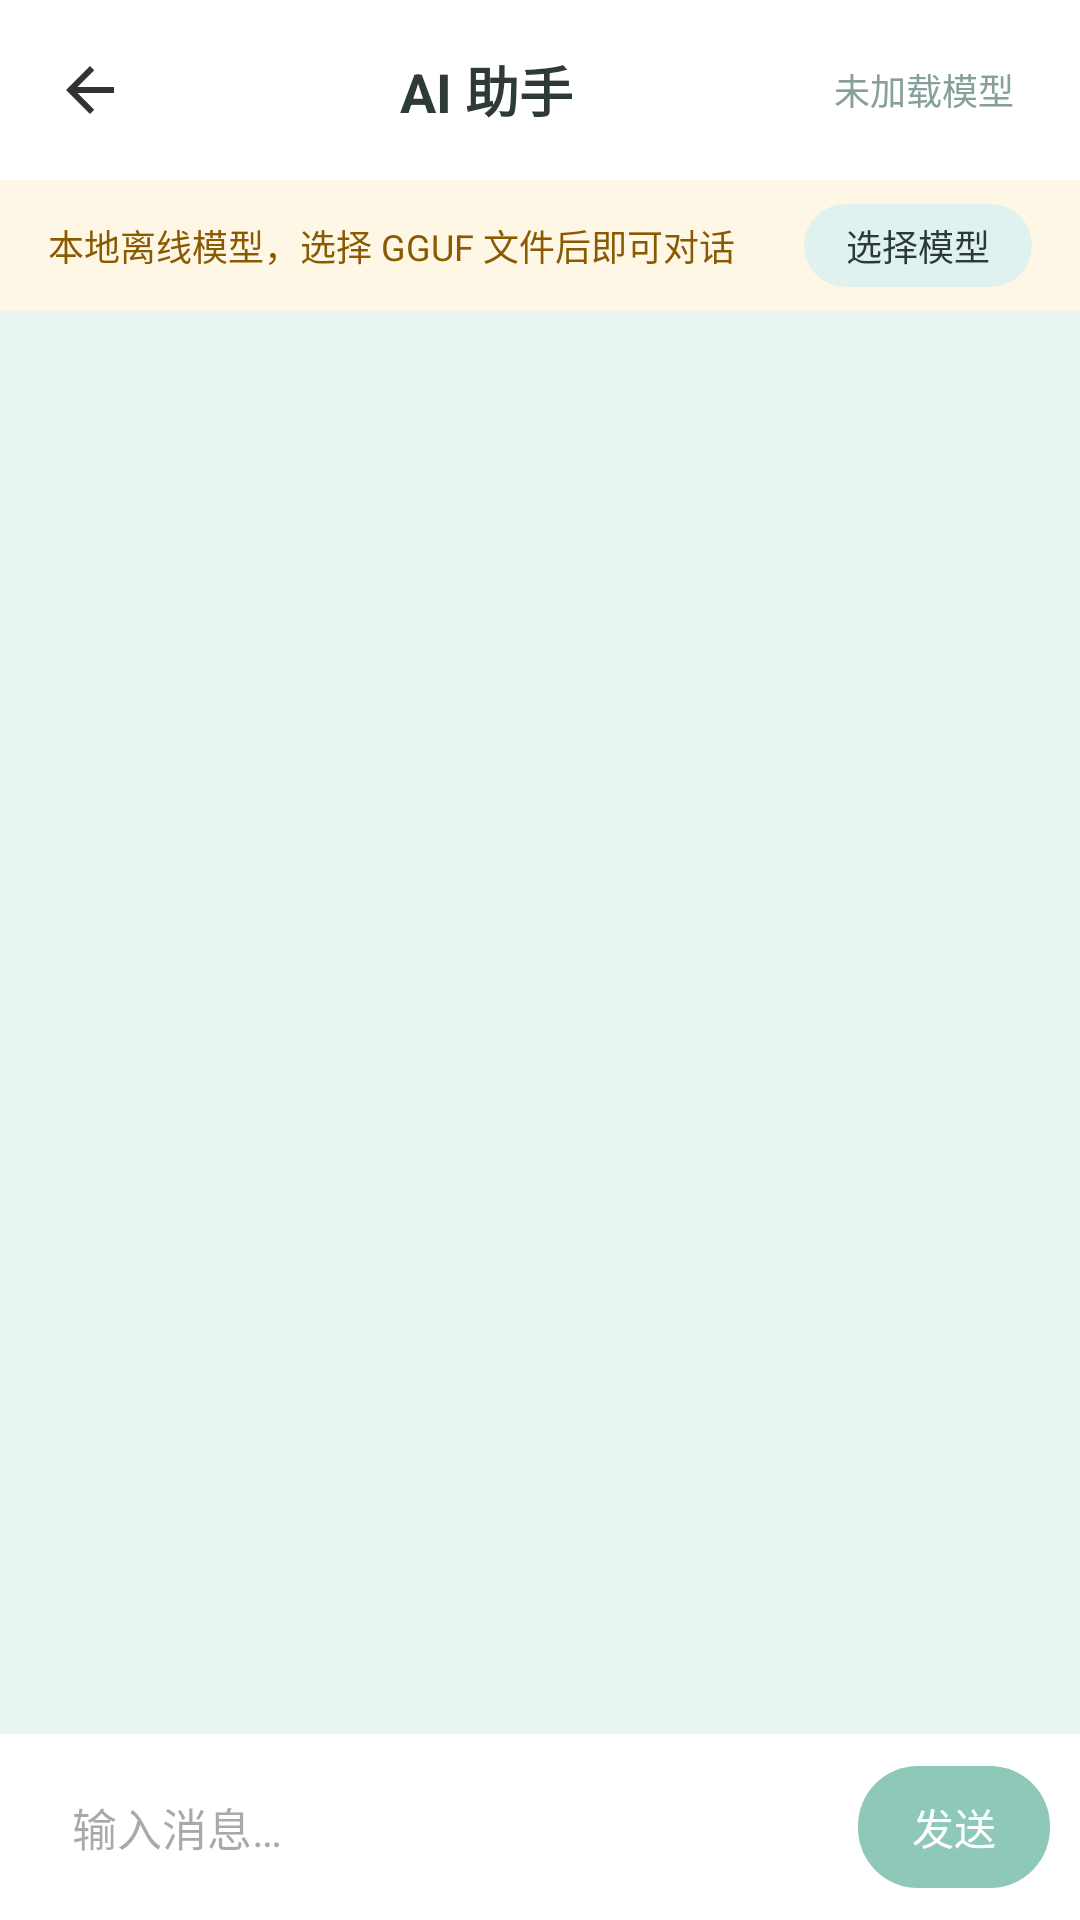

Icons on this 1080w x 1920h Android screen, each with its box as (x1, y1, x2, y2):
返回: (66, 66, 114, 114)
